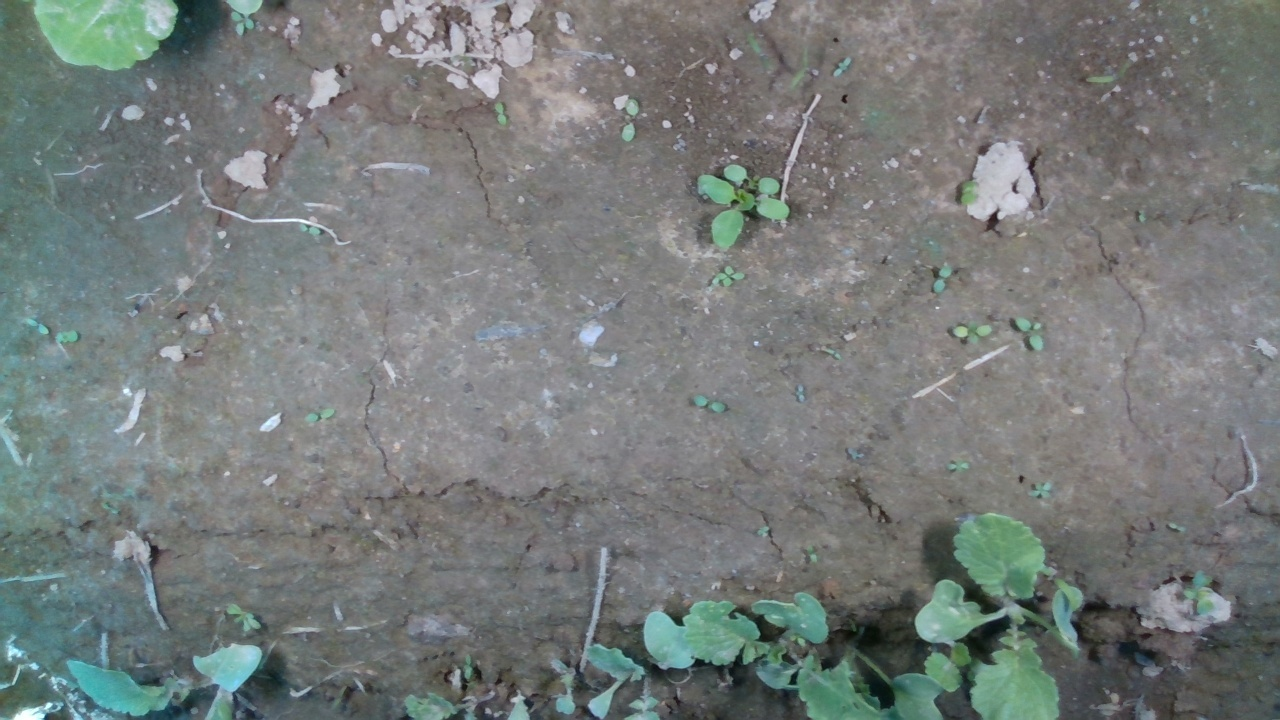weed: (1012, 315, 1045, 352), (949, 319, 993, 346), (223, 602, 261, 633), (620, 97, 640, 142), (710, 264, 744, 287), (690, 395, 727, 413), (931, 264, 951, 295), (304, 406, 335, 424), (24, 317, 49, 336), (1027, 481, 1053, 499), (833, 55, 853, 77), (294, 221, 322, 236), (948, 458, 971, 475), (495, 102, 509, 127), (1166, 520, 1187, 533)
